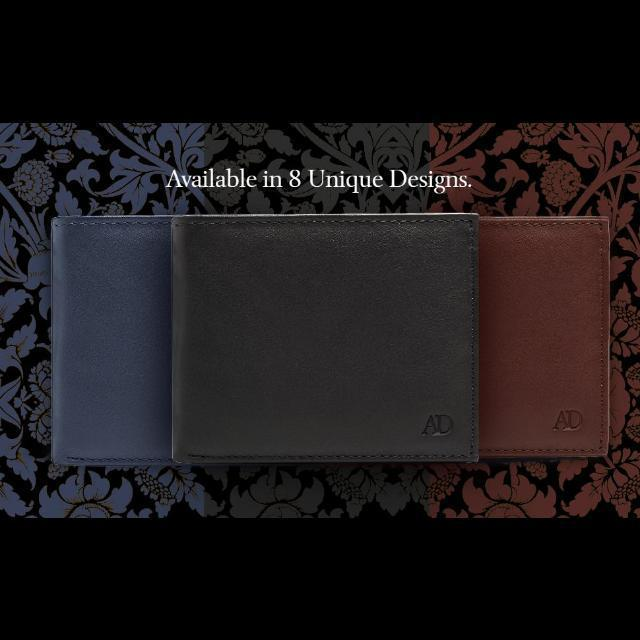wallet: (175, 200, 483, 470), (39, 208, 172, 470), (487, 206, 615, 459)
